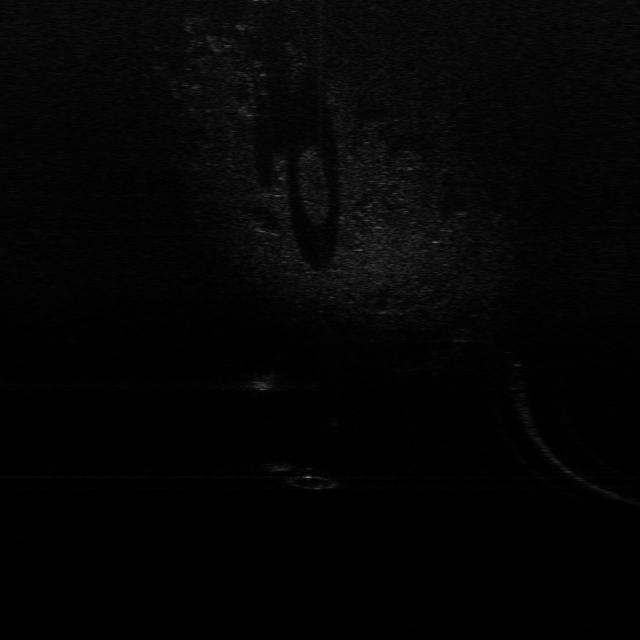cube: (257, 457, 294, 473)
square cage: (243, 368, 278, 392)
tyre: (286, 466, 342, 492)
